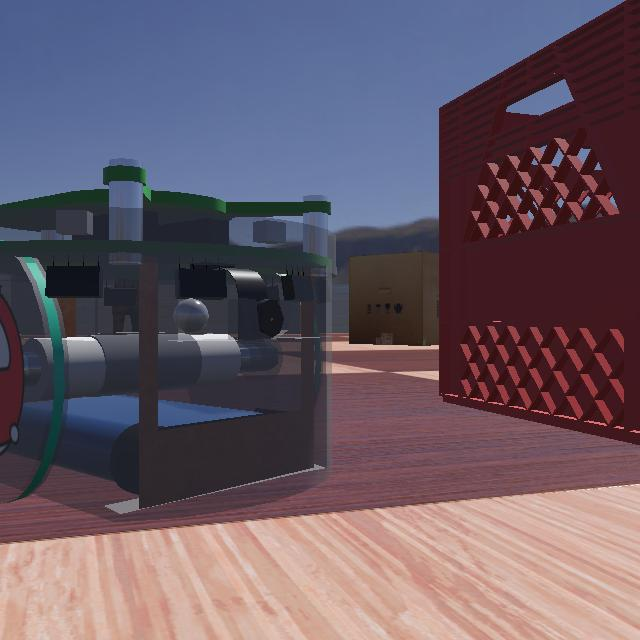cardboard-box: (345, 250, 483, 346), (345, 250, 483, 346)
plastic-crate: (426, 0, 640, 454)
